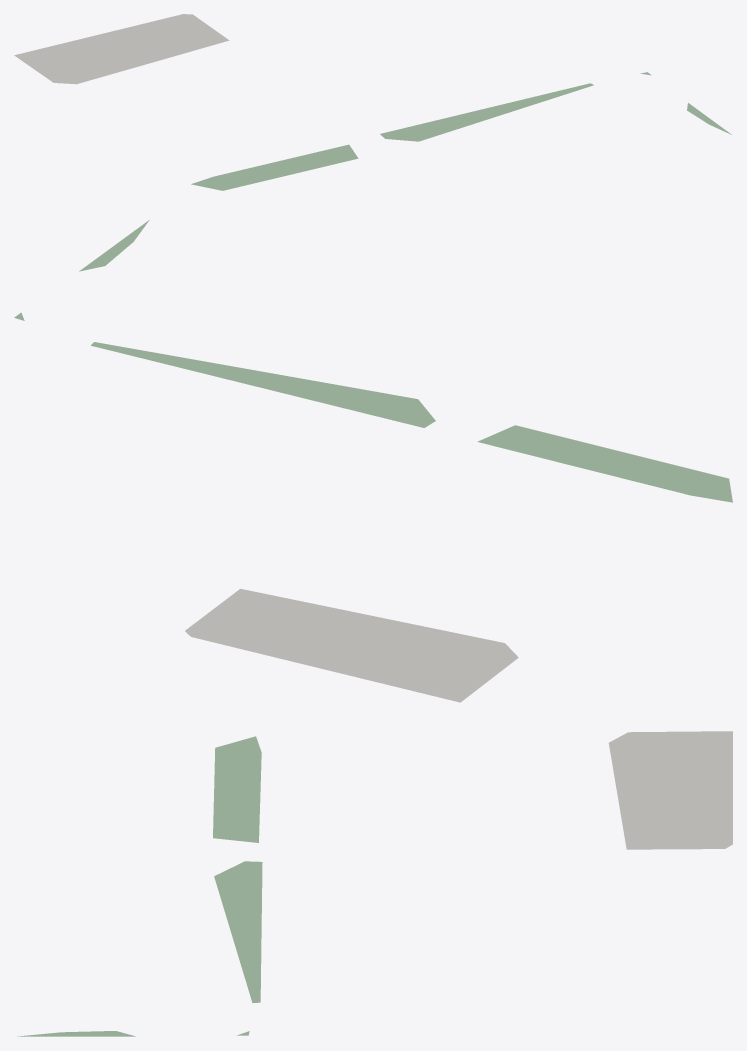
The model's file is 125_66_mid.glb.
3 views of the same model, one above another, from view 1: azimuth 30°, elevation 25°; view 2: azimuth 150°, elevation 25°; view 3: azimuth 270°, elevation 25° (orthographic). The views are drawn at different scales.
Size of the model in its own units: 494 by 3.38 by 490.
